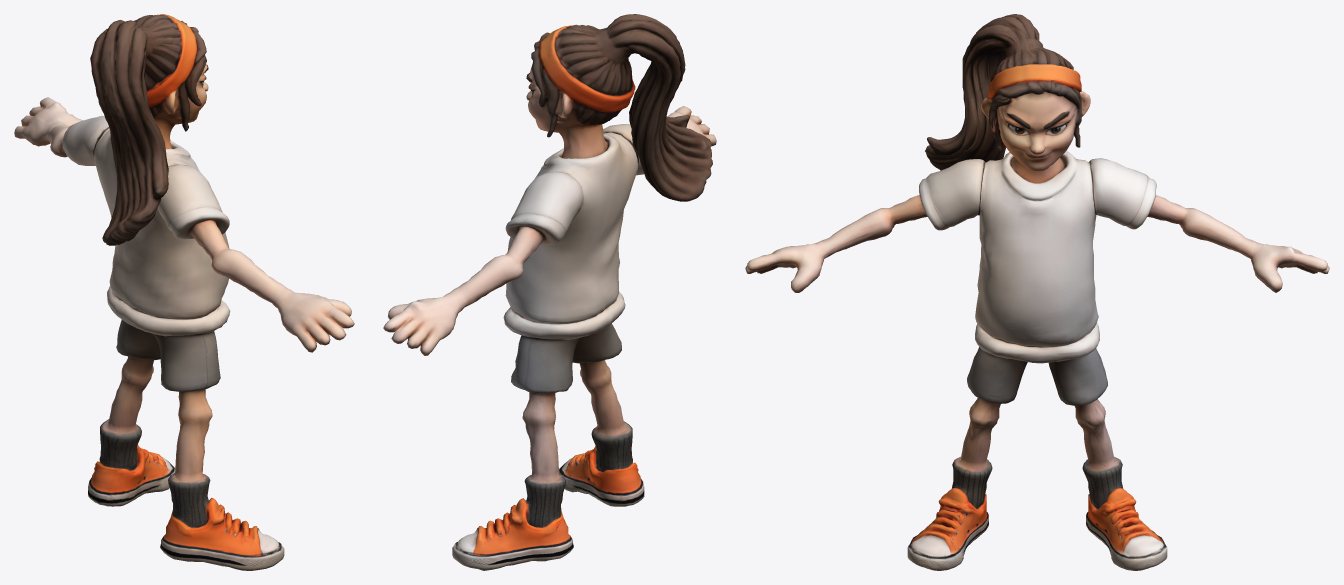
3 views of the same model, side by side, from view 1: azimuth 30°, elevation 25°; view 2: azimuth 150°, elevation 25°; view 3: azimuth 270°, elevation 25° (orthographic). The views are drawn at different scales.
Visible parts, largest first — view 1: tripo_node_ecec7e06; view 2: tripo_node_ecec7e06; view 3: tripo_node_ecec7e06.
Part boxes in pixels (bbox=[...]): tripo_node_ecec7e06: bbox=[14, 14, 354, 570]; tripo_node_ecec7e06: bbox=[383, 14, 716, 570]; tripo_node_ecec7e06: bbox=[745, 14, 1329, 570].
Bounding box in the file's own units: 0.2975 × 0.9491 × 1.
Materials: 1 (1 with a texture image).
